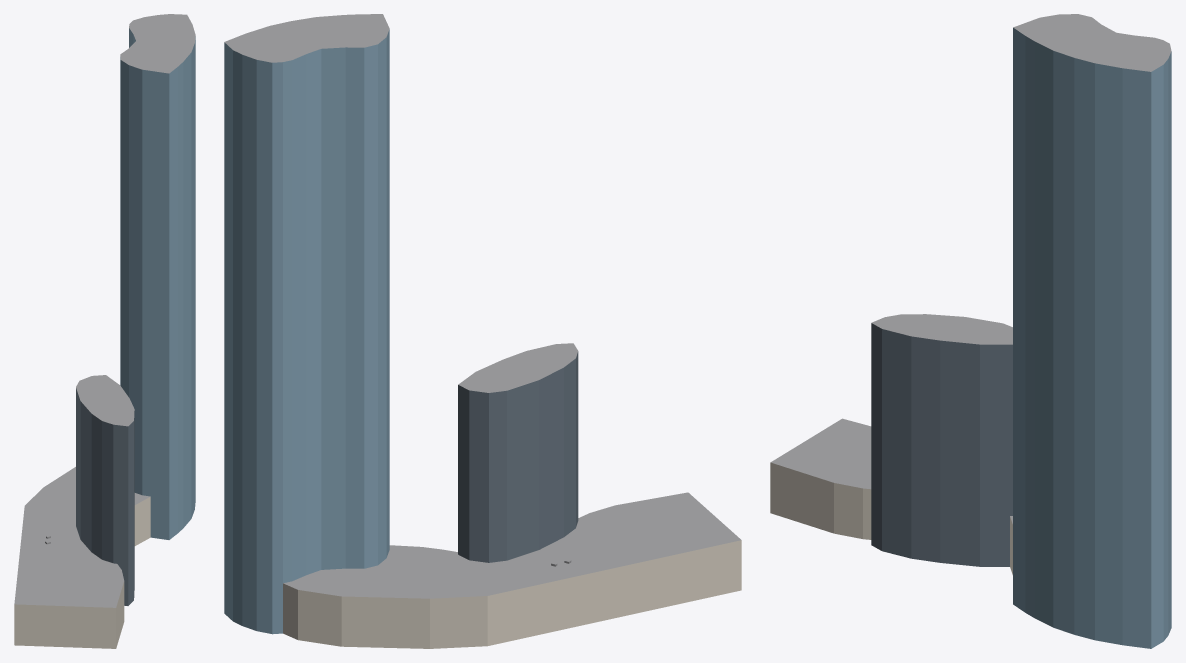
File: building_-3_0.glb
3 renders of one model, left to right at view 1: azimuth 30°, elevation 25°; view 2: azimuth 150°, elevation 25°; view 3: azimuth 270°, elevation 25°, orthographic. The views are drawn at different scales.
Visible parts, largest first — view 1: glass_blue, roof, glass_dark, concrete_warm; view 2: glass_blue, roof, concrete_warm, glass_dark; view 3: glass_blue, glass_dark, roof, concrete_warm.
Boxes of the visible parts, x1,y1,x2,y2 form: glass_blue: (120,28,195,539); roof: (14,14,195,607); glass_dark: (76,388,134,605); concrete_warm: (14,497,150,648); glass_blue: (224,29,389,634); roof: (224,14,741,598); concrete_warm: (283,540,741,648); glass_dark: (458,351,578,562); glass_blue: (1013,27,1171,648); glass_dark: (871,323,1012,566); roof: (771,14,1171,523); concrete_warm: (770,462,1012,574).
Size of the model in its own units: 170 by 255 by 160.
